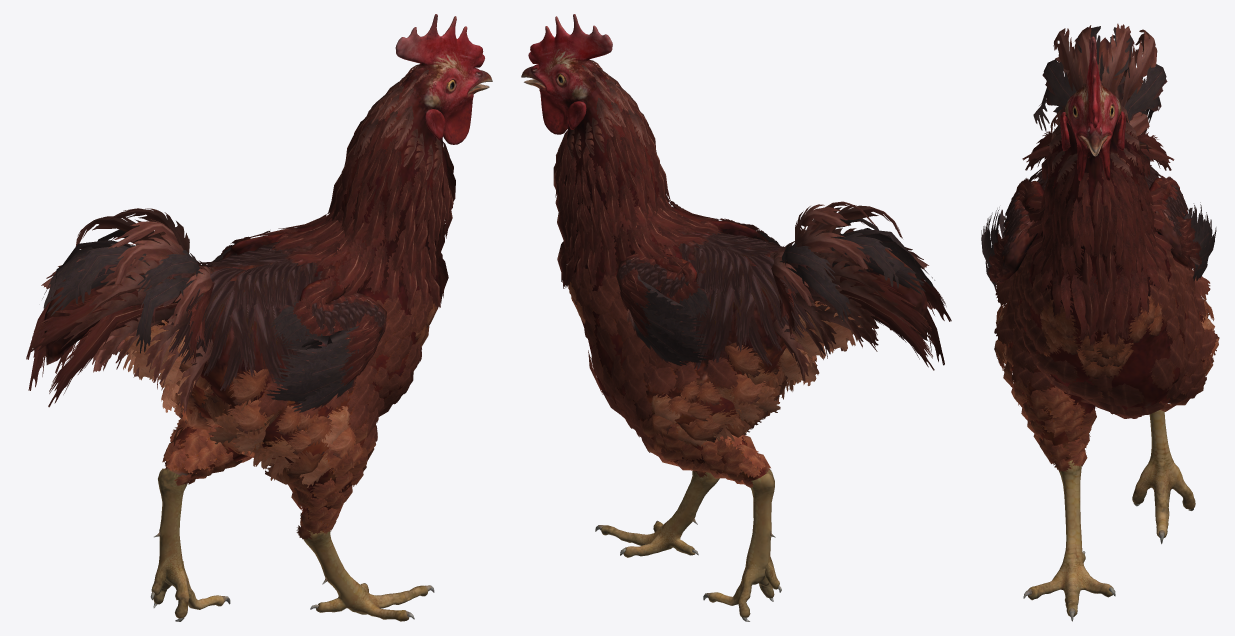
File: chicken-walk-animated.fbx
The picture shows the model from 3 angles, left to right: view 1: azimuth 30°, elevation 25°; view 2: azimuth 150°, elevation 25°; view 3: azimuth 270°, elevation 25°; orthographic projection. The views are drawn at different scales.
Parts seen in each view (by area): view 1: 0000_CREA_Chicken_MI_CREA_Chicken_Fur_001_0, 0001_CREA_Chicken_MI_CREA_Chicken_Body_001_0; view 2: 0000_CREA_Chicken_MI_CREA_Chicken_Fur_001_0, 0001_CREA_Chicken_MI_CREA_Chicken_Body_001_0; view 3: 0000_CREA_Chicken_MI_CREA_Chicken_Fur_001_0, 0001_CREA_Chicken_MI_CREA_Chicken_Body_001_0.
Part boxes in pixels (<box>): 0000_CREA_Chicken_MI_CREA_Chicken_Fur_001_0: <box>26,64,455,539</box>; 0001_CREA_Chicken_MI_CREA_Chicken_Body_001_0: <box>44,14,492,621</box>; 0000_CREA_Chicken_MI_CREA_Chicken_Fur_001_0: <box>553,60,951,487</box>; 0001_CREA_Chicken_MI_CREA_Chicken_Body_001_0: <box>521,14,927,621</box>; 0000_CREA_Chicken_MI_CREA_Chicken_Fur_001_0: <box>981,23,1219,471</box>; 0001_CREA_Chicken_MI_CREA_Chicken_Body_001_0: <box>1001,36,1208,621</box>.
Size of the model in its own units: 62.21 by 71.83 by 26.33.
